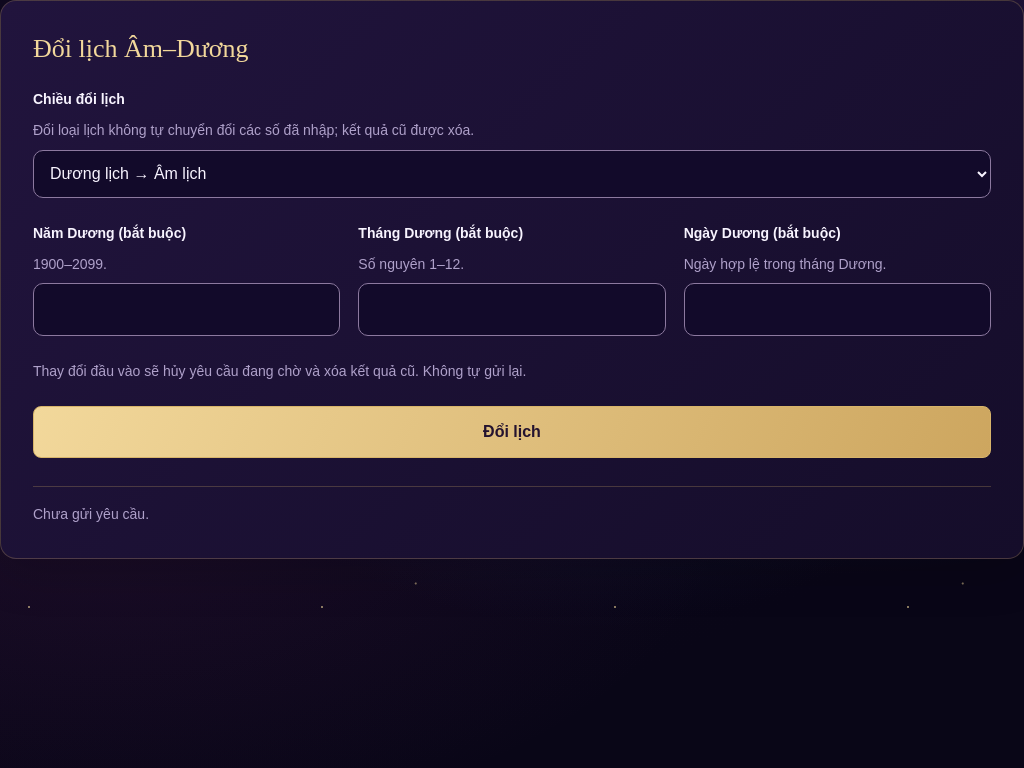
Phase 6 independent calendar forms › shows INVALID_INPUT without stale completed output
The width and height of the screenshot is (1024, 768).
Step 1. Type "2000" into the field labelled "Năm Dương (bắt buộc)" → (187, 309), box [33,283,340,336]
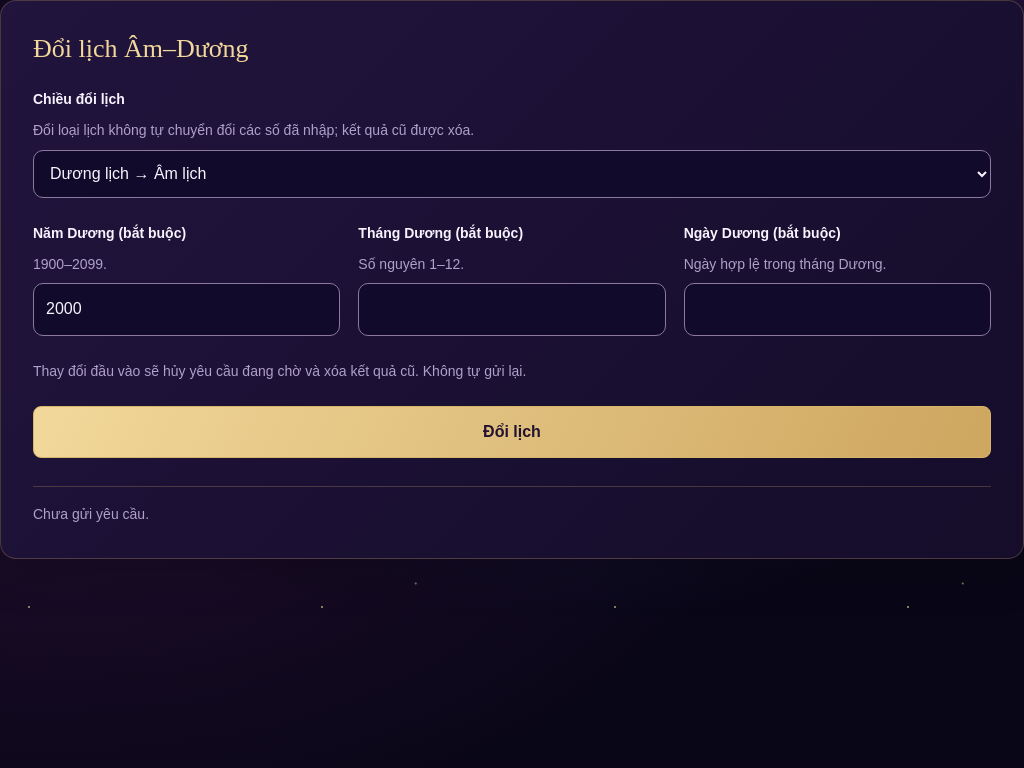
Step 2. Type "1" into the field labelled "Tháng Dương (bắt buộc)" → (512, 309), box [358,283,666,336]
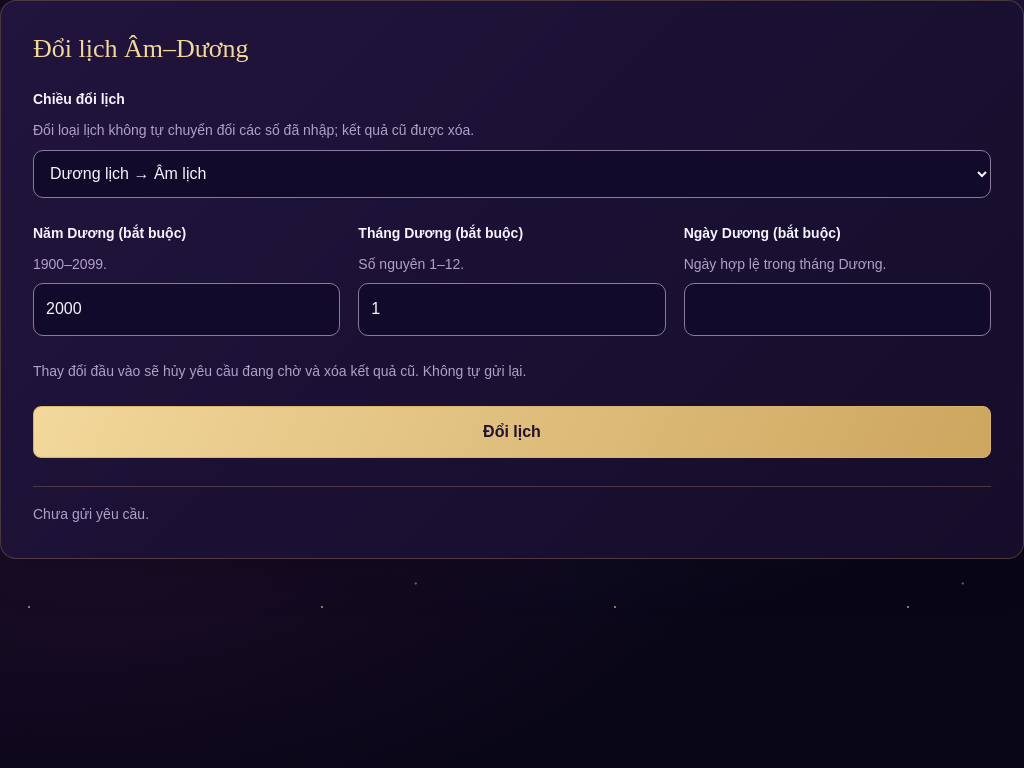
Step 3. Type "1" into the field labelled "Ngày Dương (bắt buộc)" → (837, 309), box [684,283,991,336]
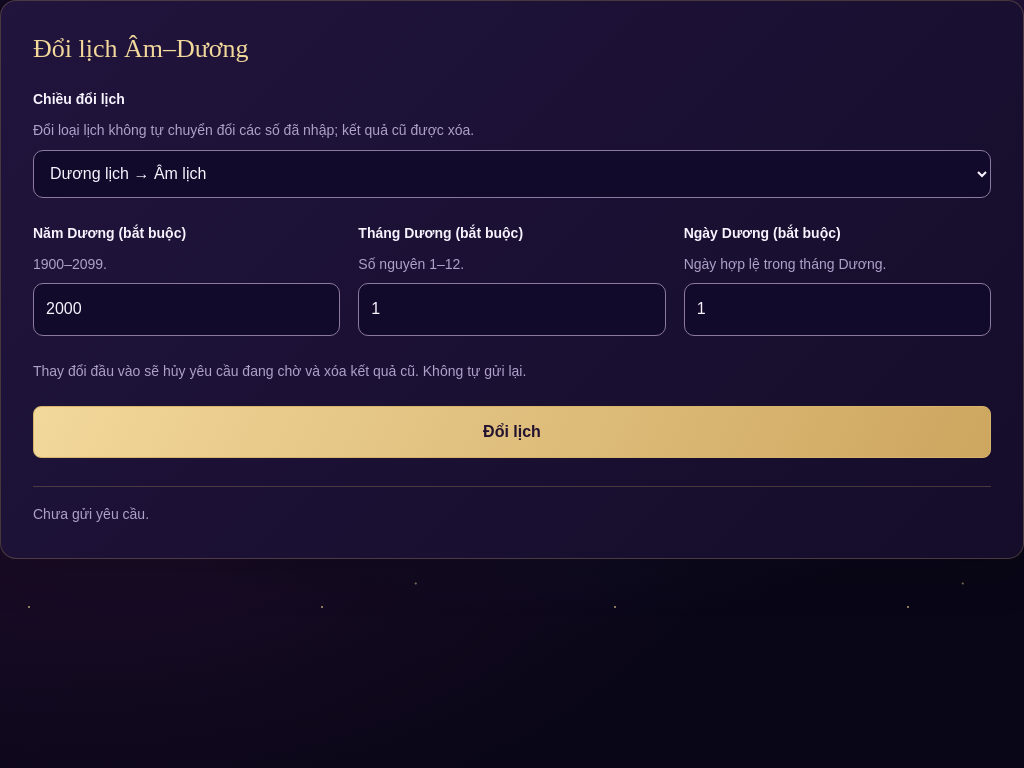
Step 4. Click the button "Đổi lịch" → (512, 432), box [33,406,991,458]
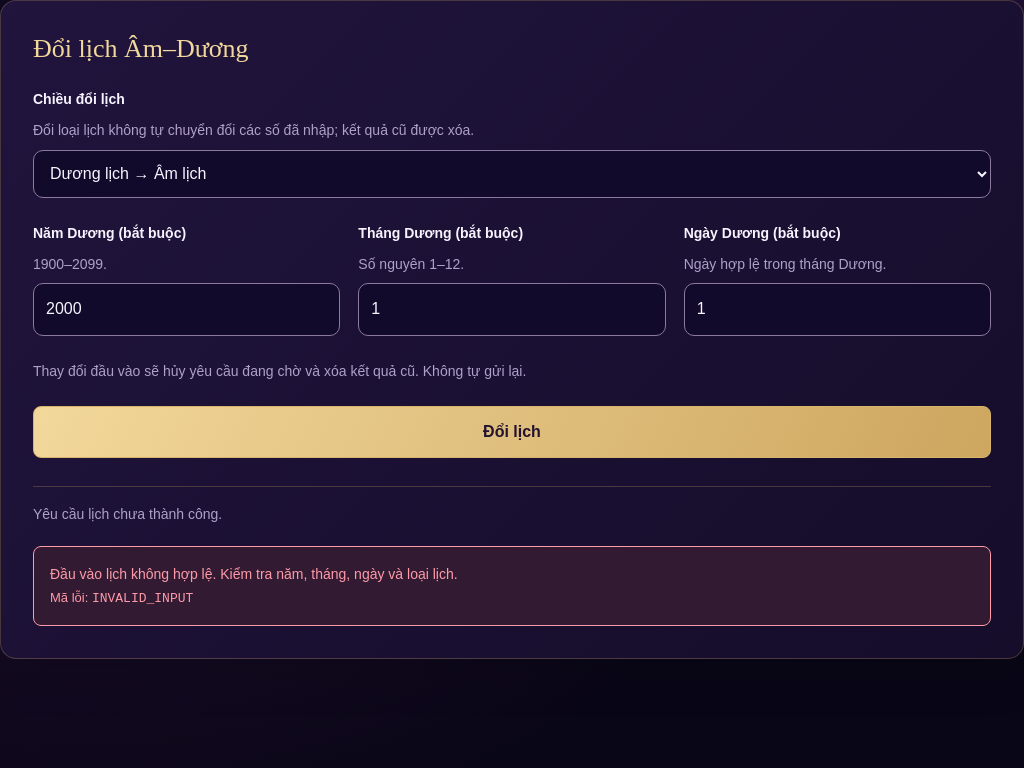
Result: the 2nd message shows "INVALID_INPUT" at [92,590,193,606]
